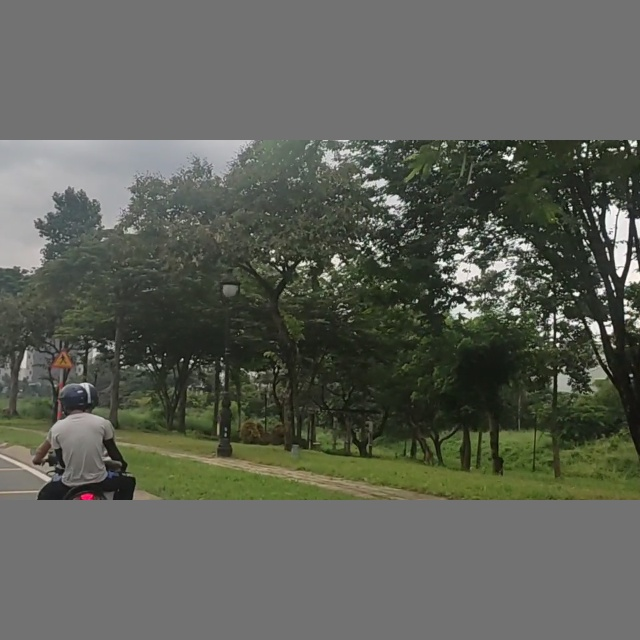W.224: (51, 347, 74, 368)
